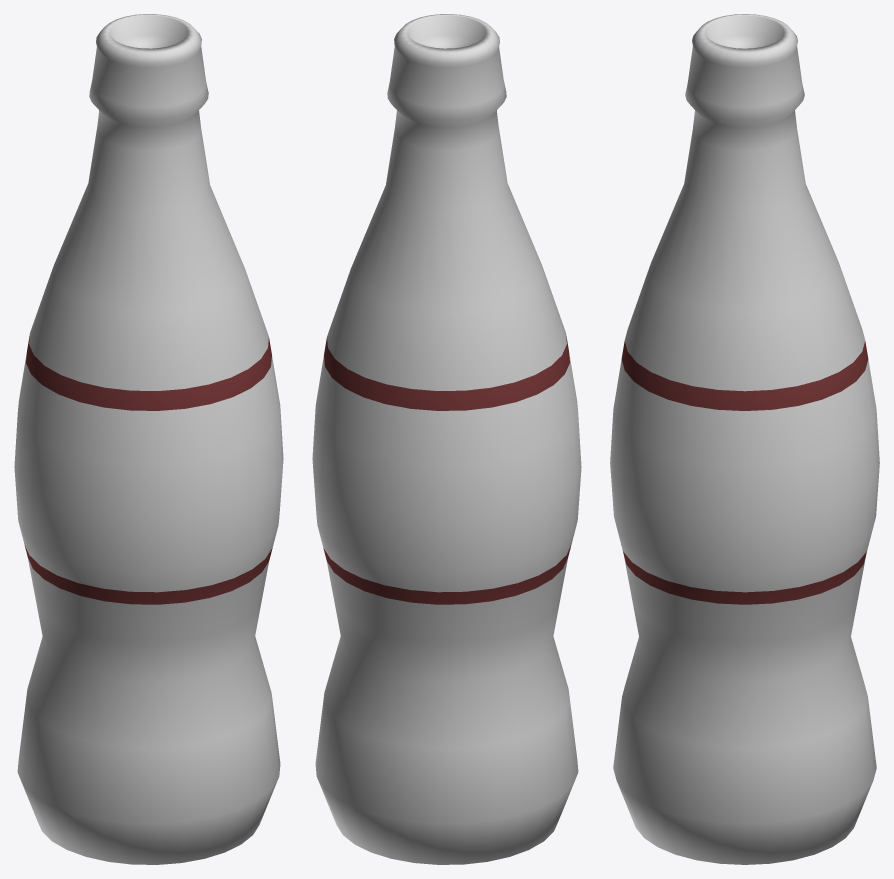
The model's file is SodaBottle.fbx.
3 renders of one model, left to right at view 1: azimuth 30°, elevation 25°; view 2: azimuth 150°, elevation 25°; view 3: azimuth 270°, elevation 25°, orthographic.
Parts seen in each view (by area): view 1: Cylinder.028; view 2: Cylinder.028; view 3: Cylinder.028.
Part boxes in pixels (x1,y1,x2,y2): Cylinder.028: (14, 14, 283, 864); Cylinder.028: (312, 14, 581, 864); Cylinder.028: (610, 14, 879, 864).
Bounding box in the file's own units: 145 × 466 × 145.
